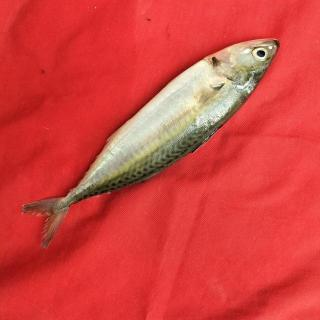Ikan: (14, 27, 287, 253)
